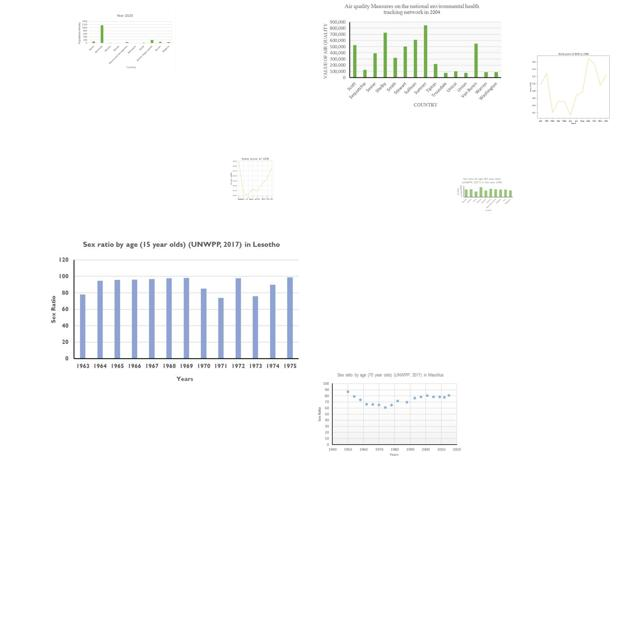Graph: (46, 233, 303, 386), (319, 2, 505, 110), (315, 369, 463, 457), (513, 46, 631, 127), (74, 11, 176, 72), (224, 155, 285, 201), (456, 177, 514, 213)
